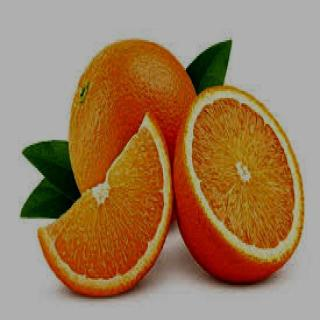orange: (175, 78, 310, 298), (32, 104, 176, 296), (61, 34, 213, 212)
